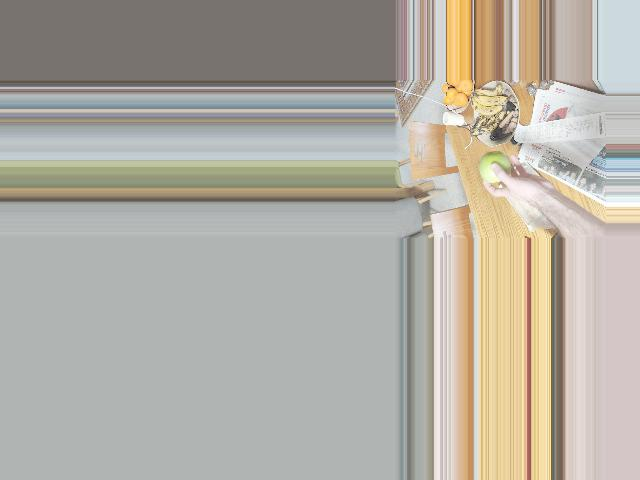apple: (478, 151, 513, 183)
